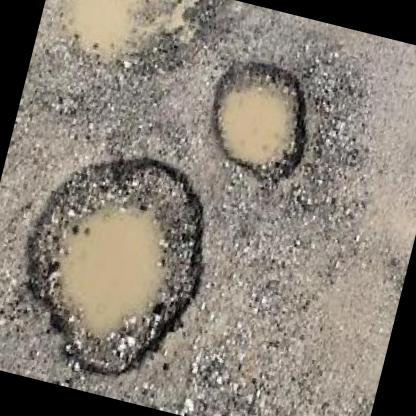pothole: (0, 129, 233, 400), (195, 49, 326, 188), (45, 0, 214, 93)
